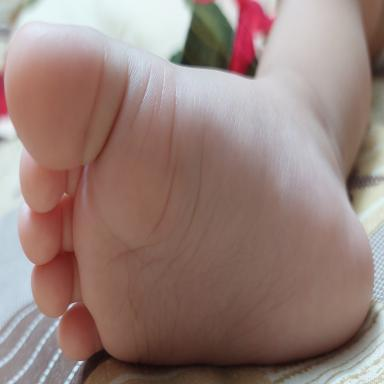normal skin: (5, 1, 384, 365)
